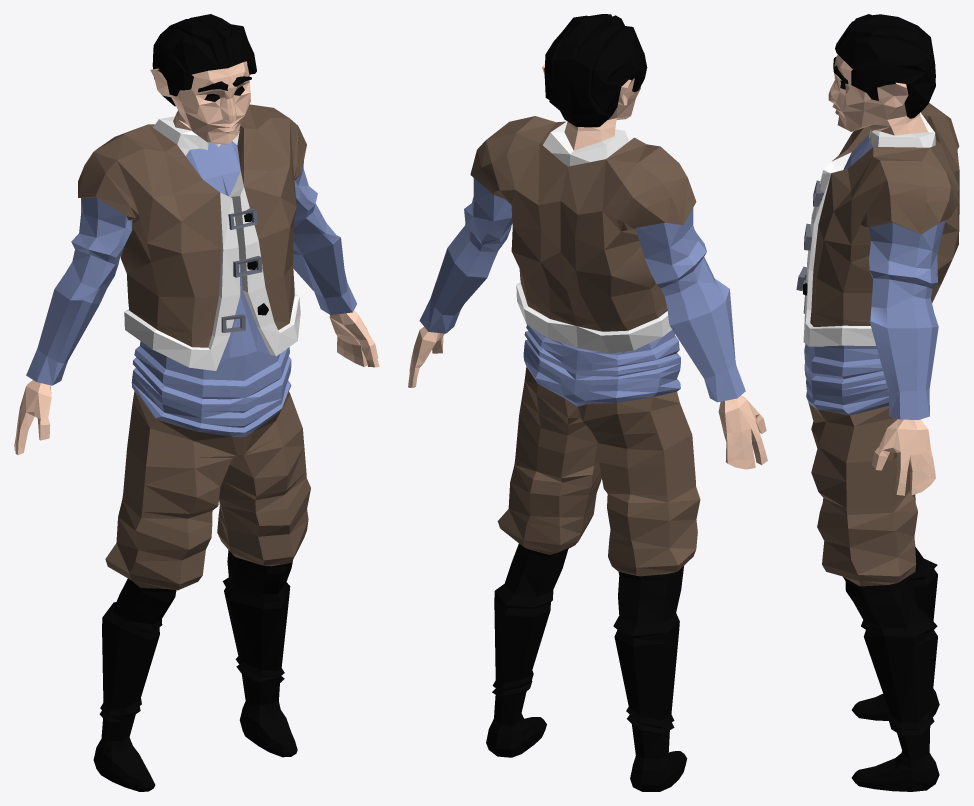
Rendered from city_dwellers_1.glb.
The picture shows the model from 3 angles, left to right: view 1: azimuth 30°, elevation 25°; view 2: azimuth 150°, elevation 25°; view 3: azimuth 270°, elevation 25°; orthographic projection. The views are drawn at different scales.
Parts seen in each view (by area): view 1: city_dwellers_1; view 2: city_dwellers_1; view 3: city_dwellers_1.
Part boxes in pixels (x1=…): city_dwellers_1: x1=14, y1=14, x2=379, y2=791; city_dwellers_1: x1=408, y1=14, x2=767, y2=791; city_dwellers_1: x1=796, y1=14, x2=959, y2=791.
Bounding box in the file's own units: 0.901 × 1.77 × 0.3593.
Materials: 1 (1 with a texture image).
